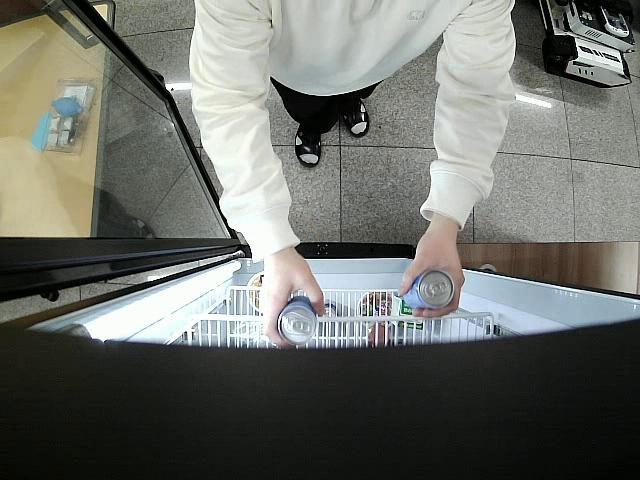15_letsbe: (404, 269, 456, 310), (276, 295, 317, 346)
